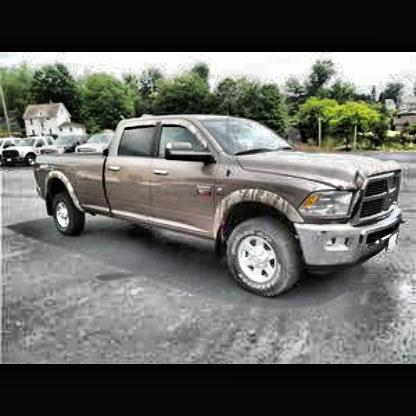Dodge Ram Pickup 3500 Crew Cab 2010: (22, 103, 403, 304)
